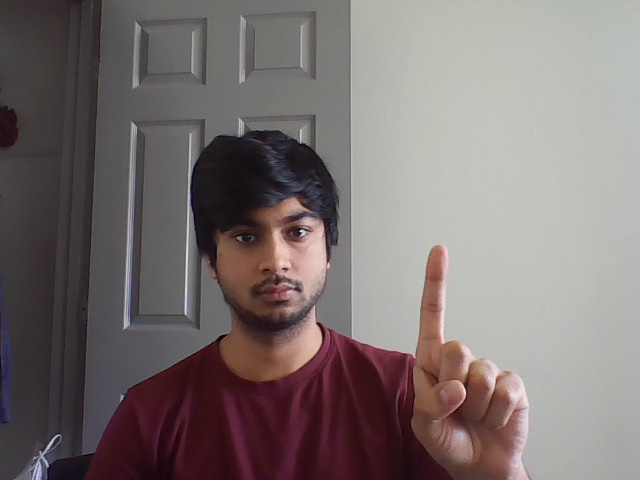one: (403, 235, 536, 434)
